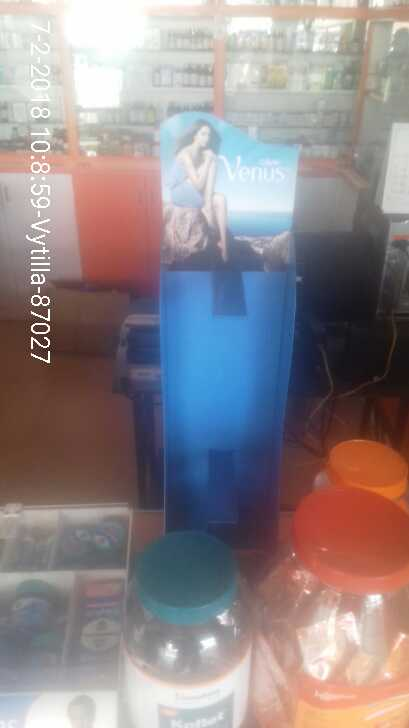reject: (157, 264, 240, 350)
